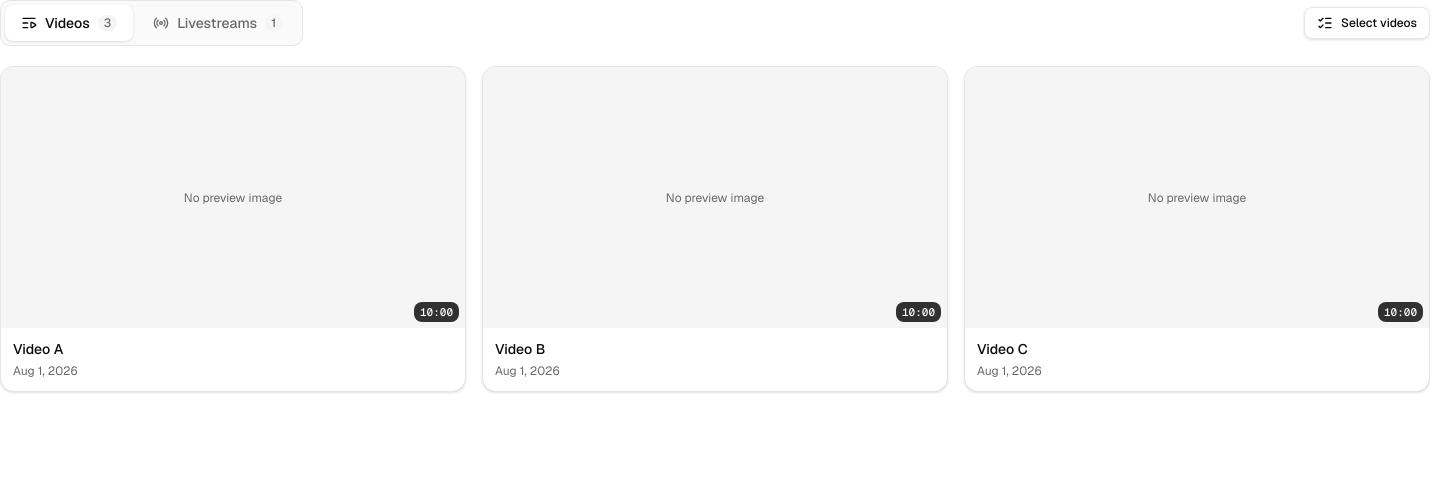
it: SelectableFeed › exiting selection mode clears the selection
The image size is (1440, 500).
Step 1. Click the button "Select videos" → [1367, 23], box x1=1304 y1=7 x2=1430 y2=39
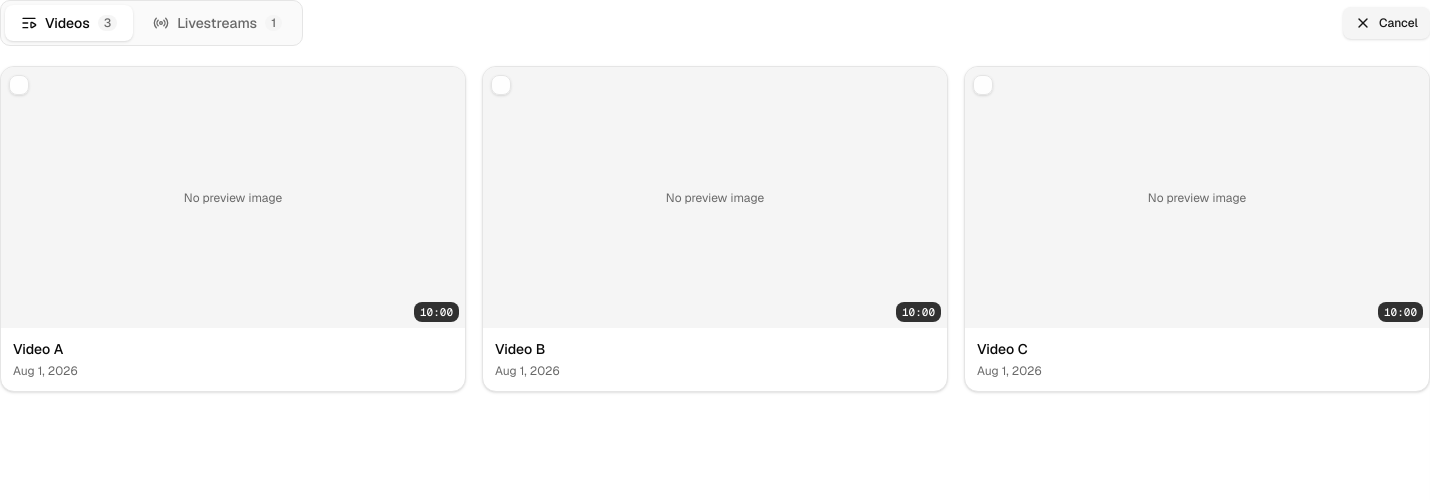
Step 2. Click the checkbox named "Select Video A" → [19, 85], box x1=9 y1=75 x2=29 y2=95
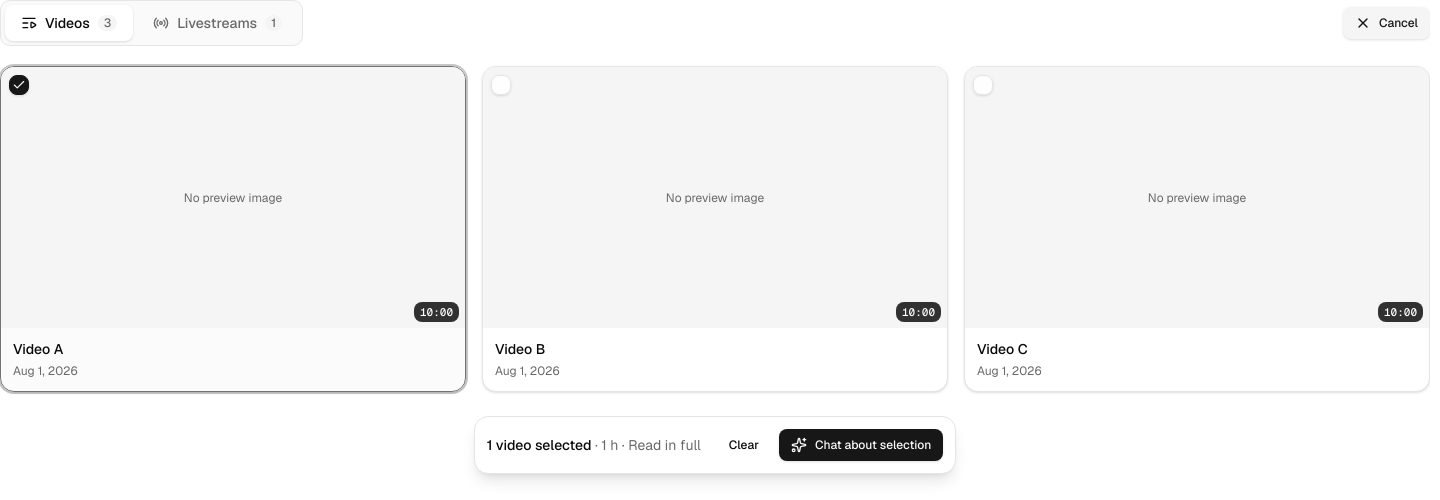
Result: the text "1 video selected" is shown at x1=487 y1=436 x2=592 y2=454
Step 3. Click the button "Cancel" → [1386, 23], box x1=1343 y1=7 x2=1430 y2=39
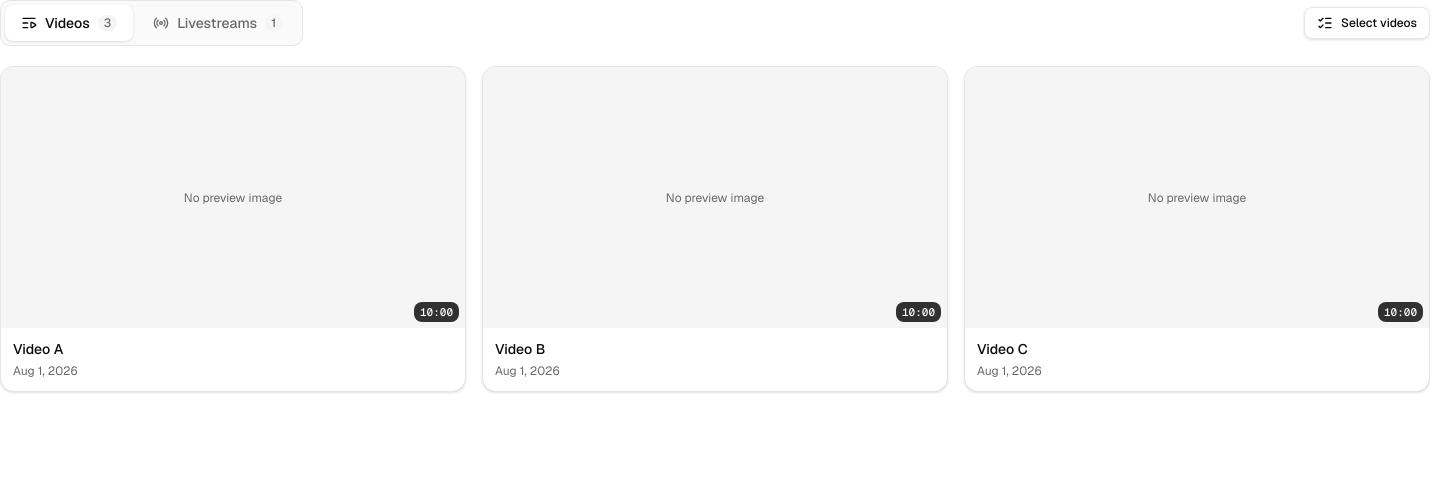
Result: the checkbox is gone
Result: the text "selected" is gone
